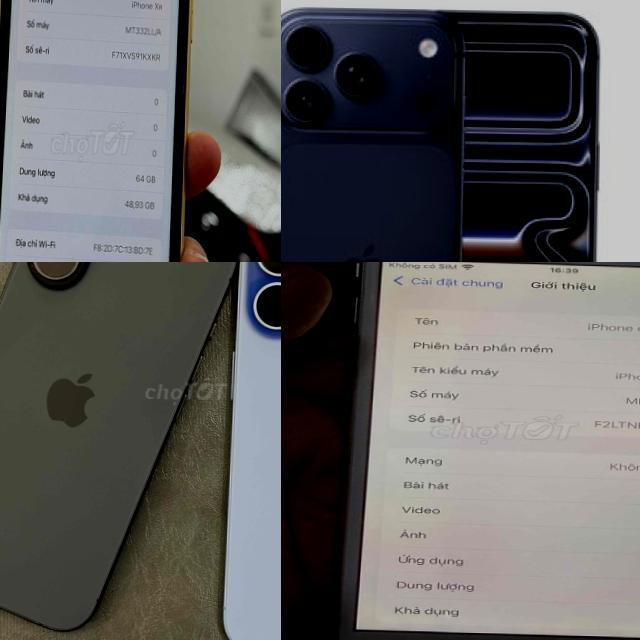gen_17: (0, 262, 236, 630), (0, 262, 235, 630), (281, 3, 474, 262), (33, 262, 78, 280)
gen_7_8: (314, 262, 640, 640)
gen_x_xs: (0, 0, 190, 262)
